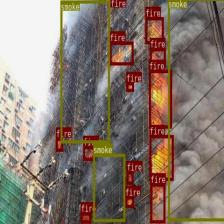fire: (148, 69, 172, 128), (149, 135, 173, 180), (150, 183, 165, 222), (109, 41, 133, 65), (145, 17, 163, 43), (150, 47, 165, 66), (83, 146, 95, 160), (81, 212, 91, 223), (55, 138, 63, 151), (125, 196, 134, 207), (127, 171, 133, 184), (126, 82, 134, 91), (110, 0, 121, 4)
smoke: (167, 0, 224, 221), (60, 0, 110, 143), (92, 153, 124, 221)
